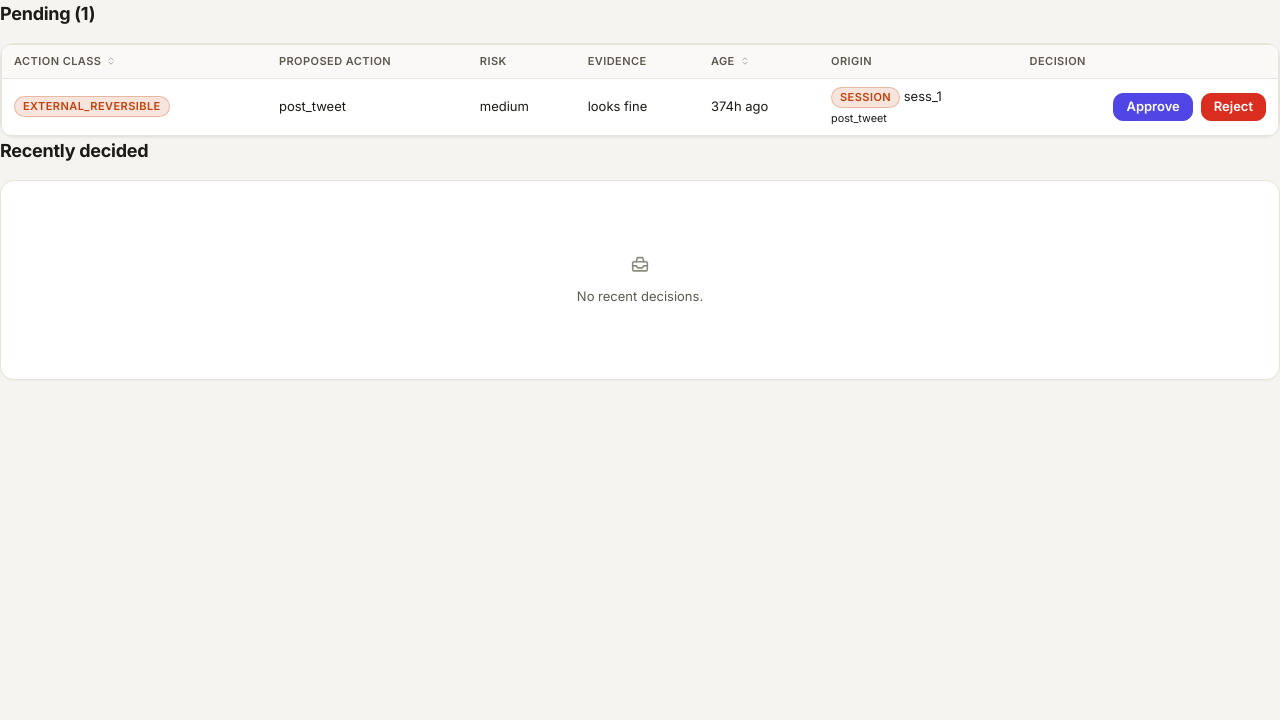
ApprovalsTab — decision failure is surfaced, not swallowed › shows an inline error and keeps the dialog + note when submitDecision rejects
Click the button "Approve" at [1153, 107], box [1113,93,1193,121]
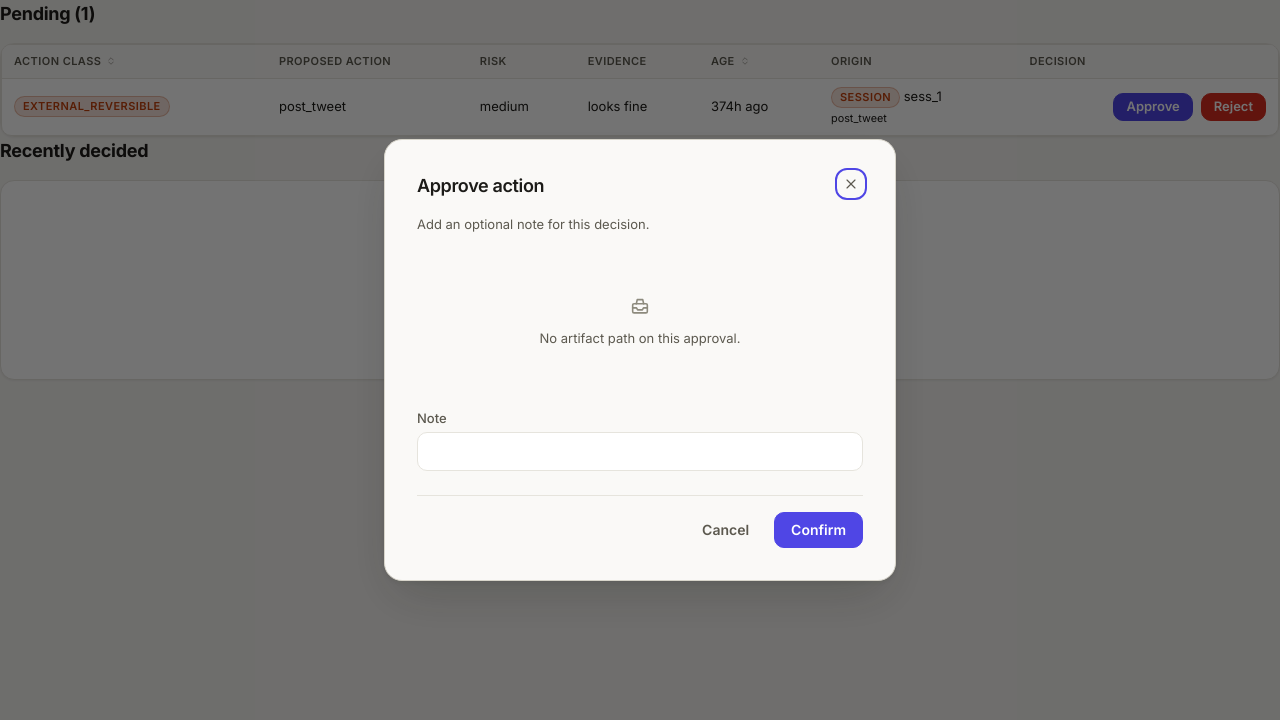
Expected: the heading "Approve action" is shown, [417,172,544,199]
Type "checked it, looks fine" into the field labelled "Note" at [640, 452], box [430,433,850,470]
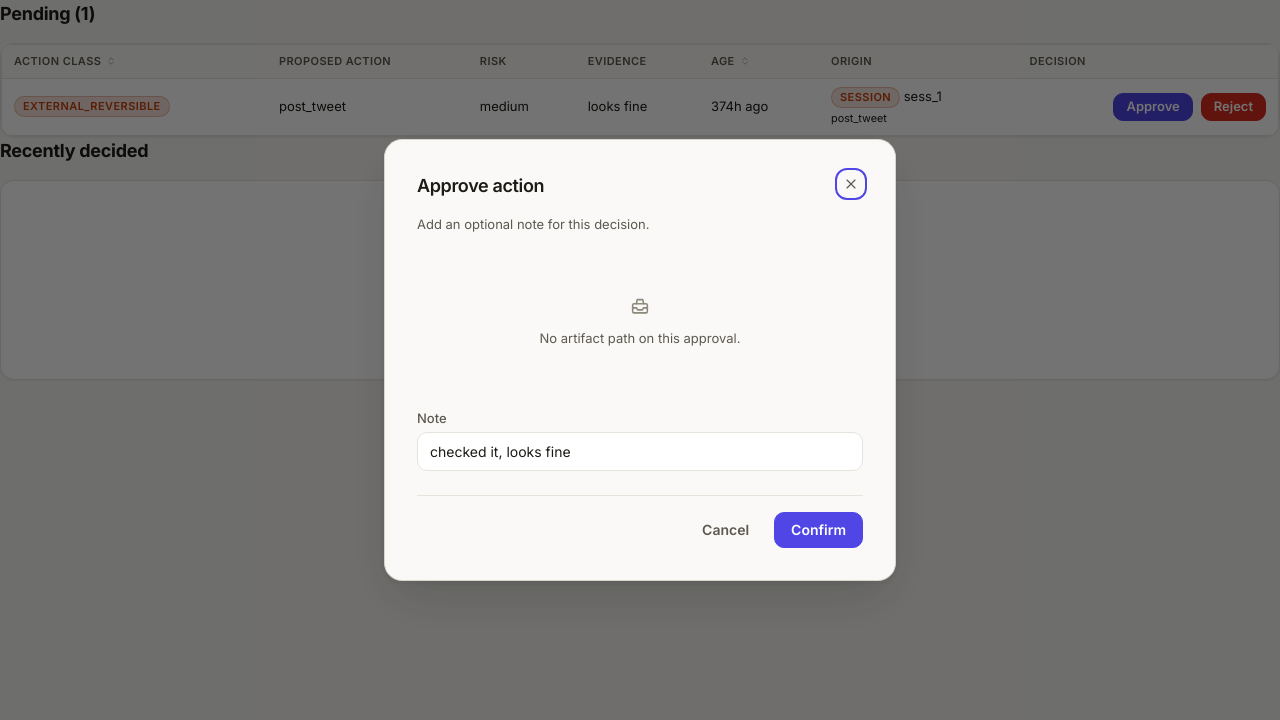
Click the button "Confirm" at [819, 530], box [774,512,863,548]
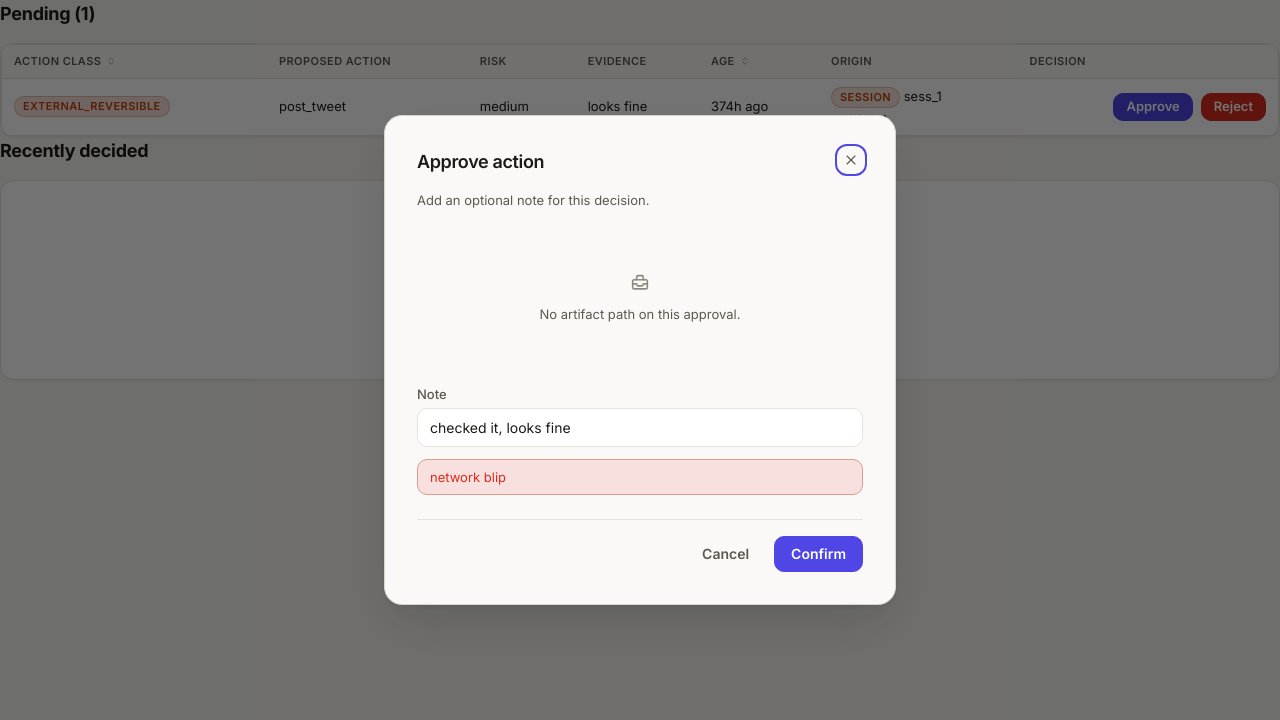
Expected: the heading "Approve action" is shown, [417,148,544,175]
Expected: the message "network blip" is shown, [417,459,863,495]
